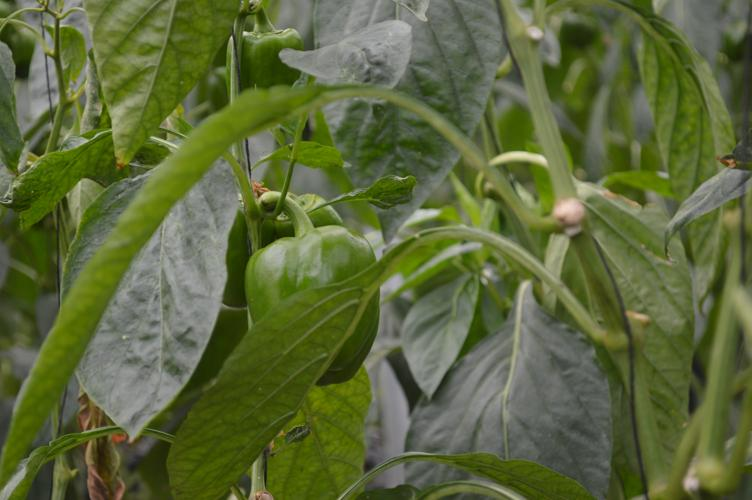BellPepper: (241, 228, 386, 389), (224, 22, 306, 100)
